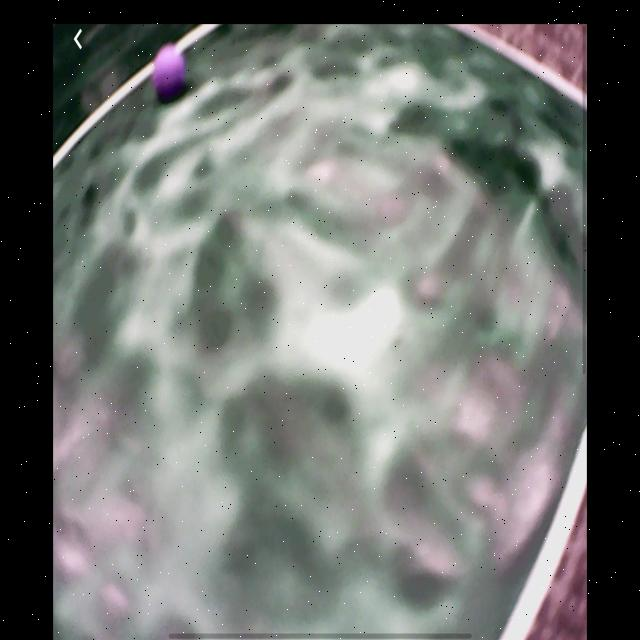ball: (153, 43, 187, 102)
